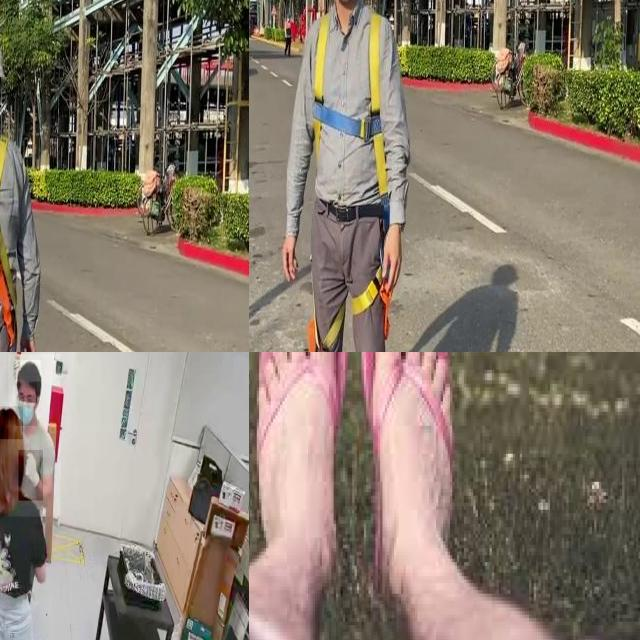Harness: (314, 13, 388, 206), (308, 278, 391, 352)
Sandals: (249, 352, 492, 633)
face_mask: (15, 383, 37, 426)
hand_glove: (19, 450, 43, 500)
head_nohelmet: (0, 406, 23, 440), (16, 360, 41, 382)
person: (0, 369, 52, 640), (9, 354, 61, 516)
